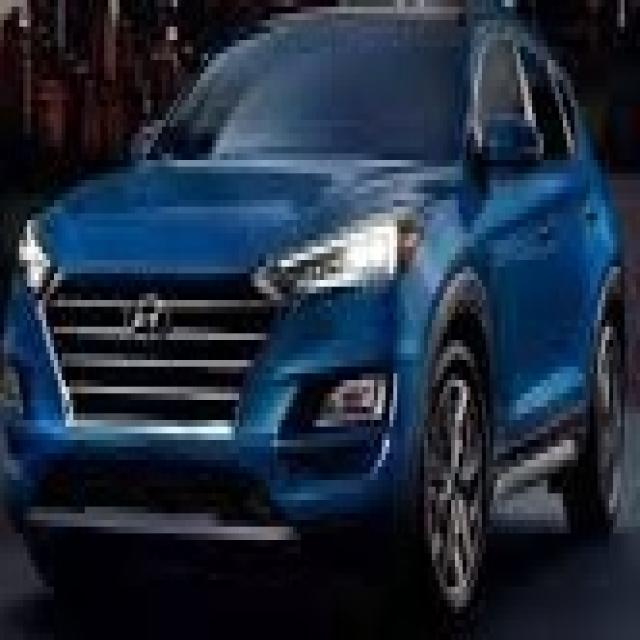blue: (4, 0, 640, 607)
